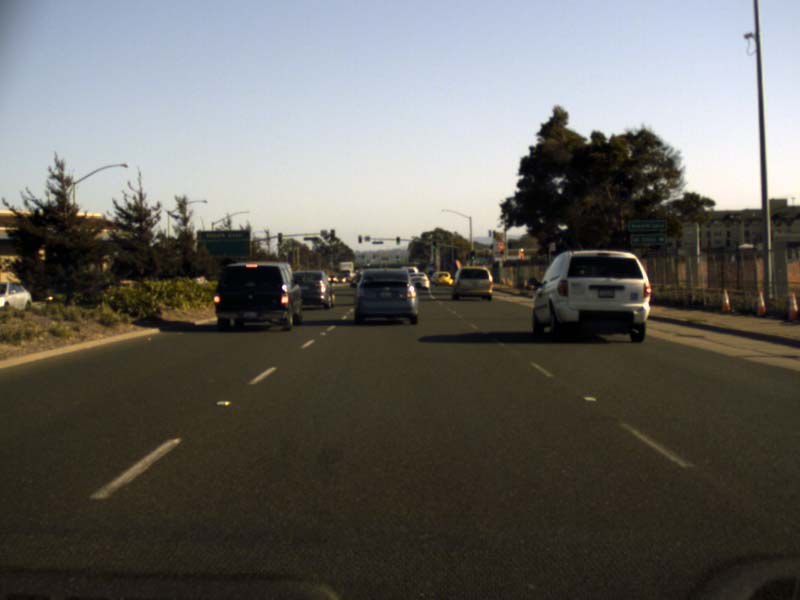Green: (470, 251, 474, 258), (432, 241, 436, 248), (396, 237, 399, 243)
Red: (358, 234, 361, 242)
